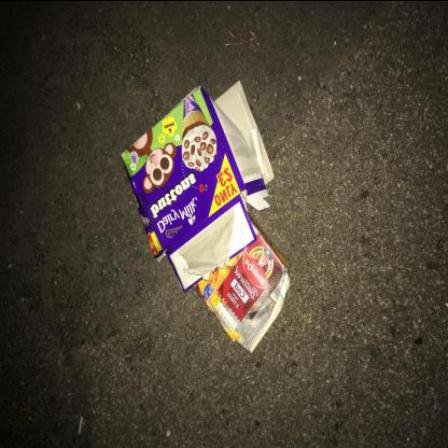Carton: (122, 80, 276, 292), (193, 215, 291, 353)
